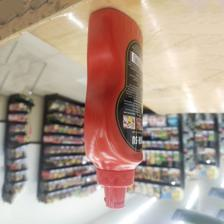Chinsu: (83, 4, 144, 210)
